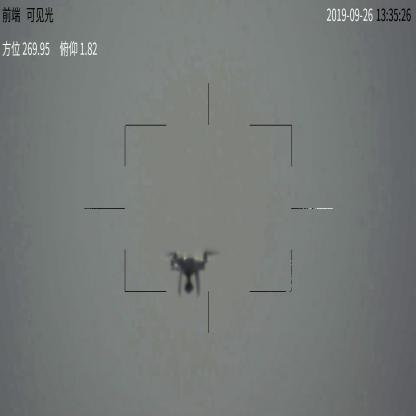uav: (162, 245, 214, 298)
